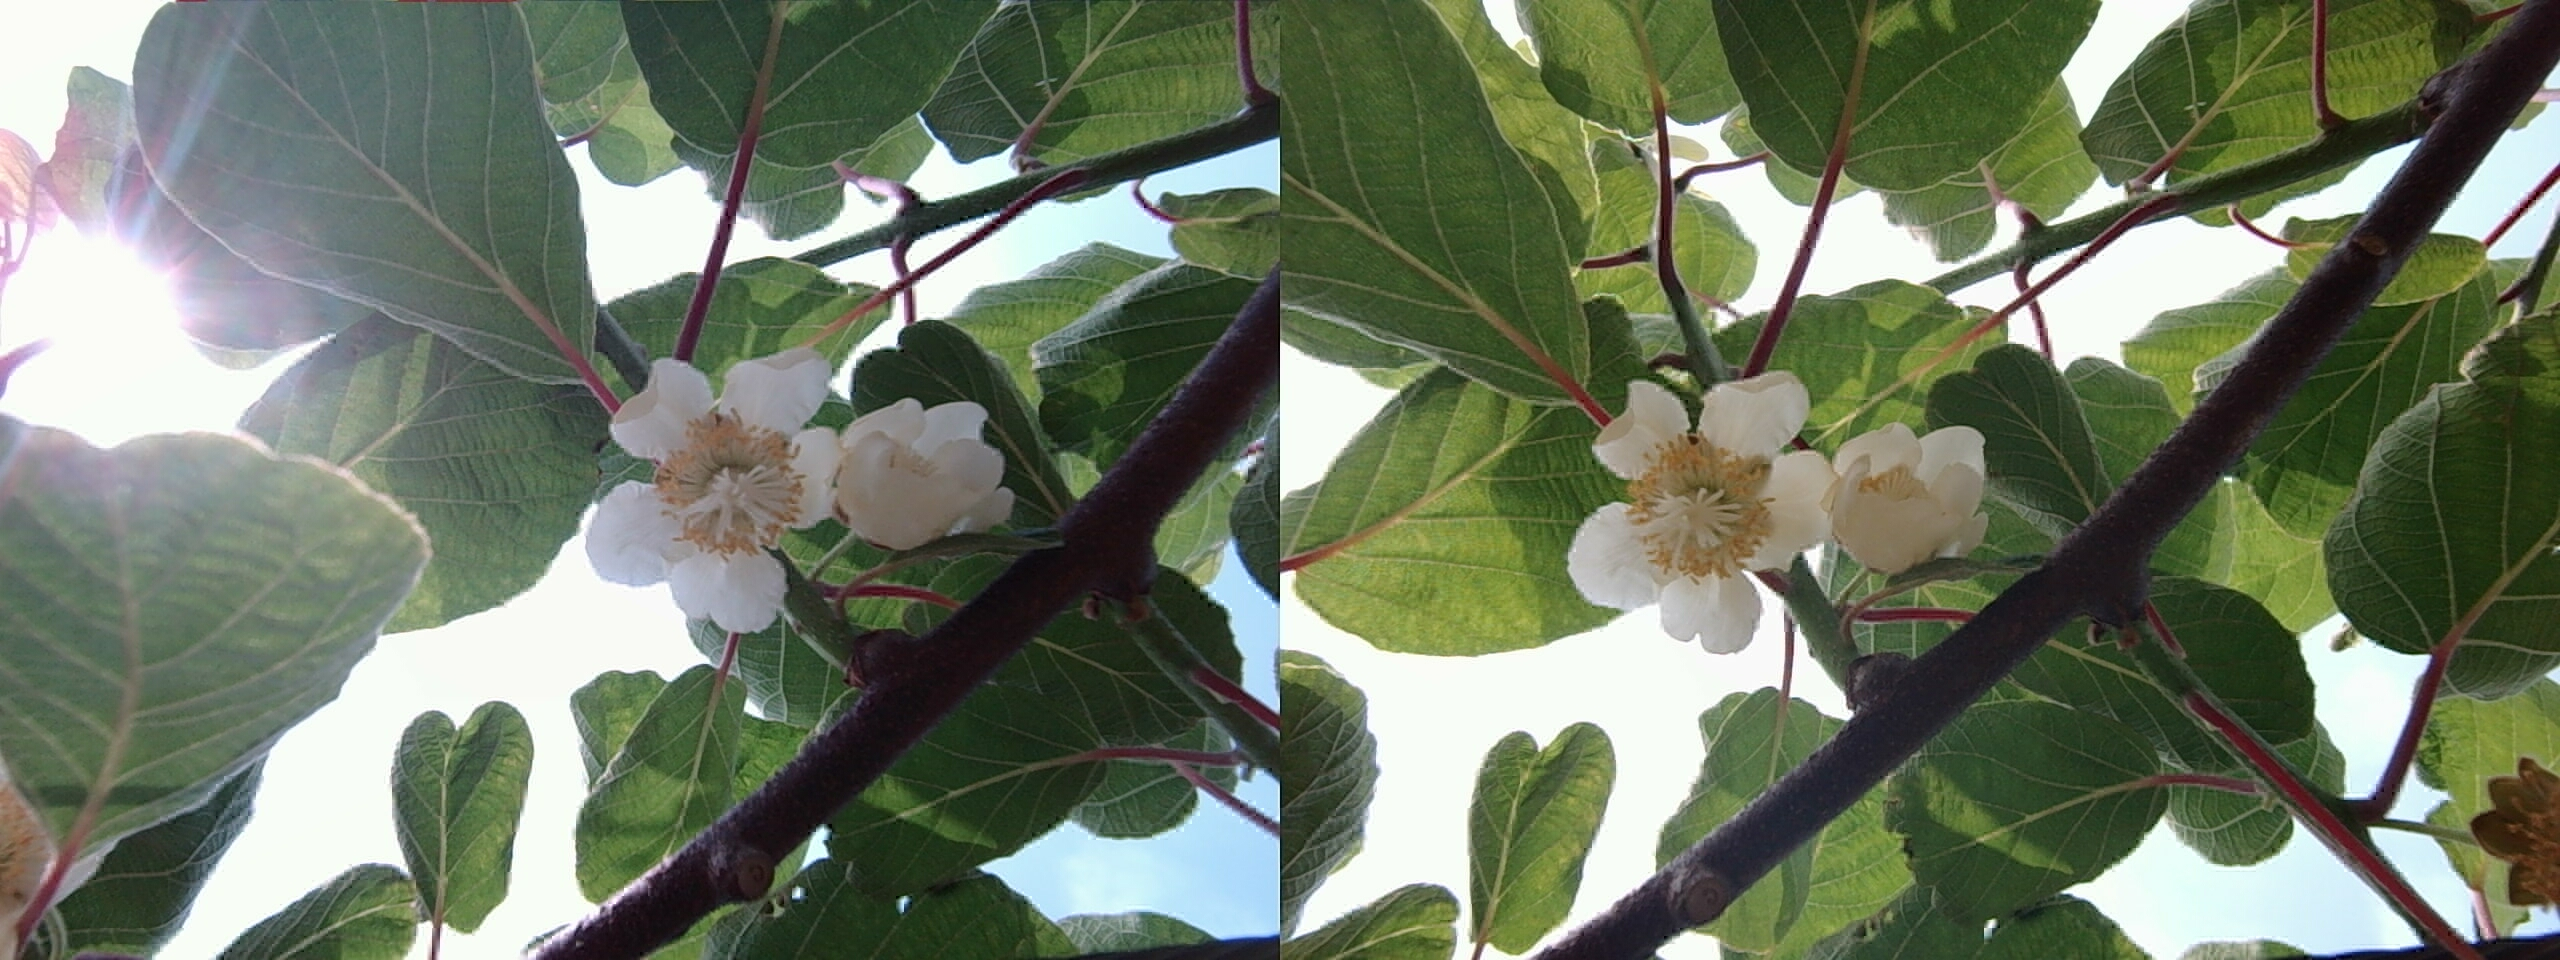flower: (1567, 369, 1825, 638), (589, 351, 829, 627), (807, 392, 1009, 549), (1822, 420, 1980, 563)
